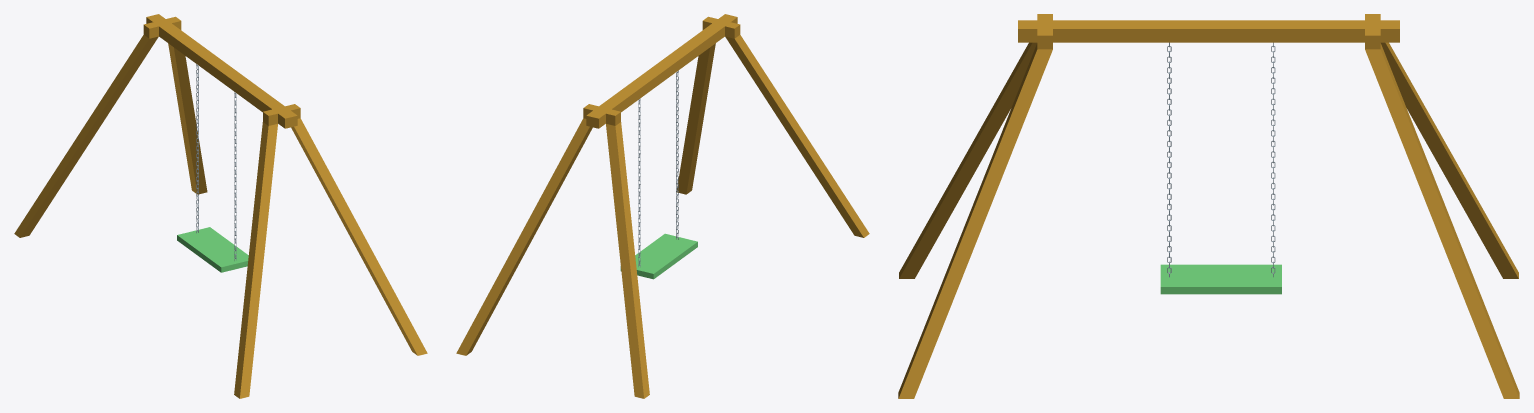
The model's file is columpio.fbx.
3 views of the same model, side by side, from view 1: azimuth 30°, elevation 25°; view 2: azimuth 150°, elevation 25°; view 3: azimuth 270°, elevation 25° (orthographic). The views are drawn at different scales.
Visible parts, largest first — view 1: barras columpio, asiento columpio, cadena 2, cadena 1; view 2: barras columpio, asiento columpio, cadena 1, cadena 2; view 3: barras columpio, asiento columpio, cadena 2, cadena 1.
Boxes of the visible parts, x1,y1,x2,y2 form: barras columpio: [14, 14, 427, 398]; asiento columpio: [177, 227, 248, 272]; cadena 2: [234, 92, 236, 260]; cadena 1: [196, 64, 198, 233]; barras columpio: [456, 14, 869, 398]; asiento columpio: [620, 233, 697, 279]; cadena 1: [638, 98, 640, 267]; cadena 2: [676, 70, 678, 239]; barras columpio: [898, 14, 1519, 398]; asiento columpio: [1160, 264, 1281, 294]; cadena 2: [1167, 42, 1171, 277]; cadena 1: [1271, 42, 1275, 277].
Size of the model in its own units: 1140 by 1317 by 2375.
